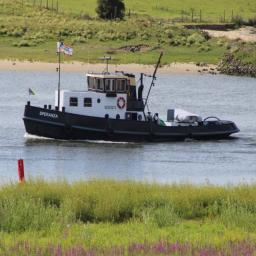tugboat: (22, 57, 244, 149)
